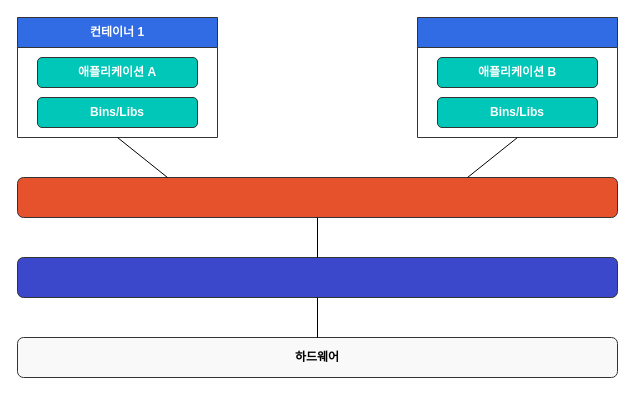
This 635x395 diagram has some shape labels left out. Here are the shapes that lost their labels. From the top down, the box of each, then its label:
(416, 16, 618, 138): 컨테이너 2
(16, 176, 618, 218): 컨테이너 런타임
(16, 256, 618, 298): 호스트 OS
